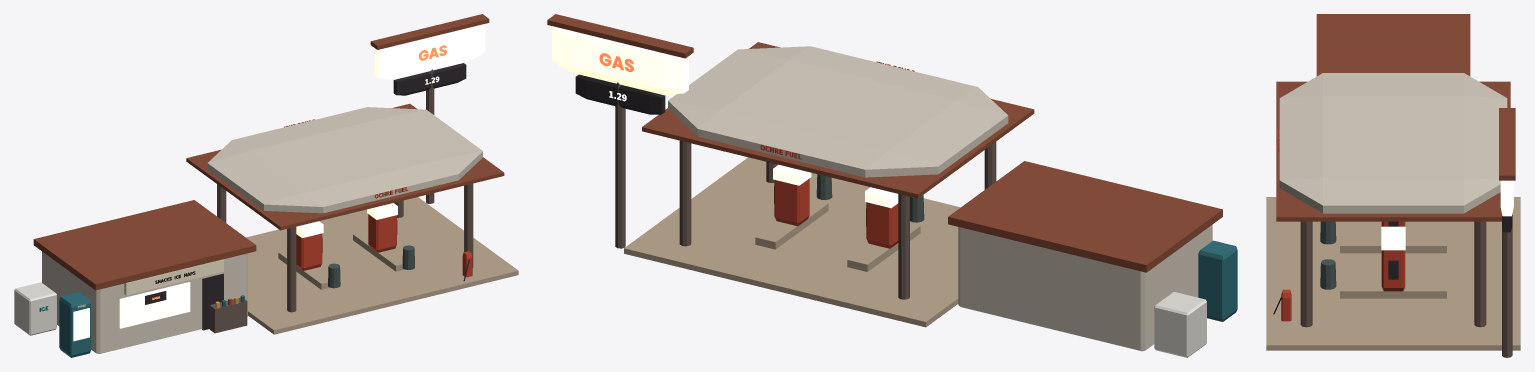
The model's file is gas_station.glb.
The picture shows the model from 3 angles, left to right: view 1: azimuth 30°, elevation 25°; view 2: azimuth 150°, elevation 25°; view 3: azimuth 270°, elevation 25°; orthographic projection. The views are drawn at different scales.
Parts seen in each view (by area): view 1: gas_station; view 2: gas_station; view 3: gas_station.
Boxes of the visible parts, bbox=[...] form: gas_station: bbox=[14, 14, 518, 357]; gas_station: bbox=[547, 14, 1237, 357]; gas_station: bbox=[1266, 14, 1520, 357].
Bounding box in the file's own units: 21.2 × 7.06 × 7.6.
